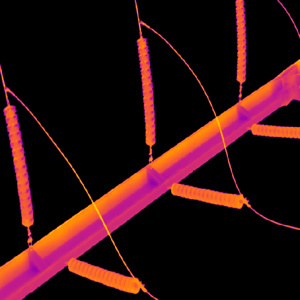insulator: (3, 103, 34, 226), (68, 255, 140, 295), (136, 35, 157, 146), (169, 180, 244, 209), (234, 0, 246, 85), (250, 121, 300, 139)
